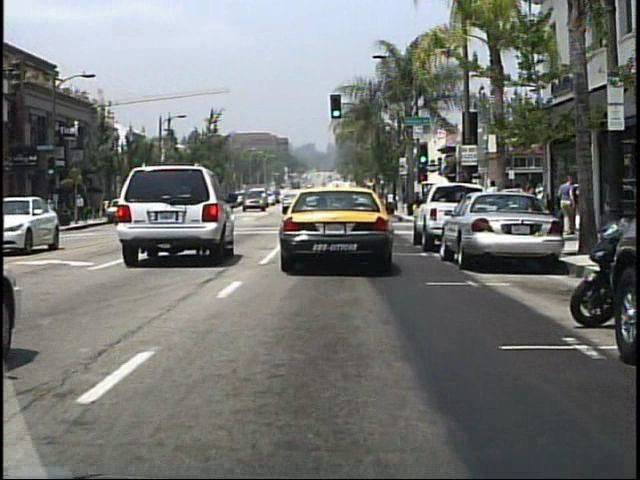person: (521, 177, 542, 236), (557, 175, 577, 235)
